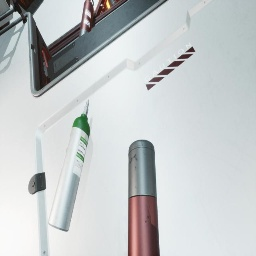0: (48, 99, 90, 232)
NitrogenTank ,: (128, 140, 160, 256), (79, 0, 94, 38)
